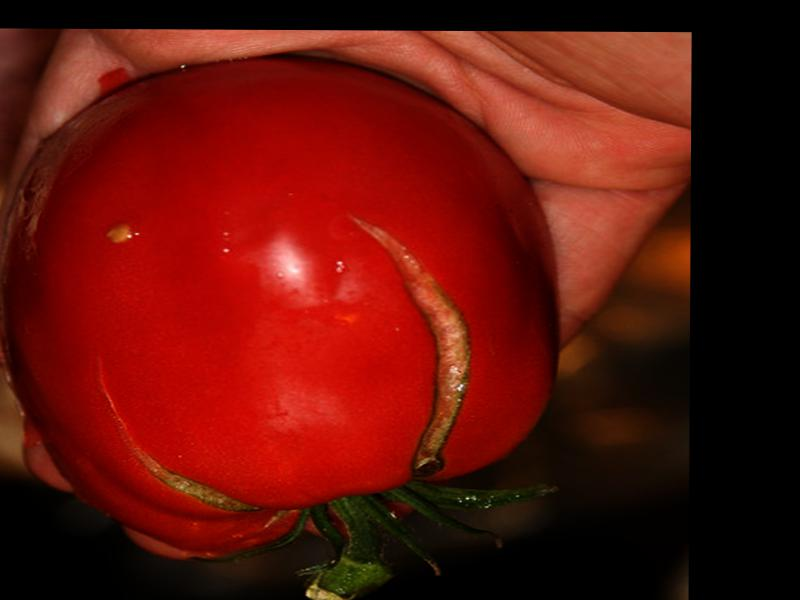Tomato: (0, 55, 551, 555)
